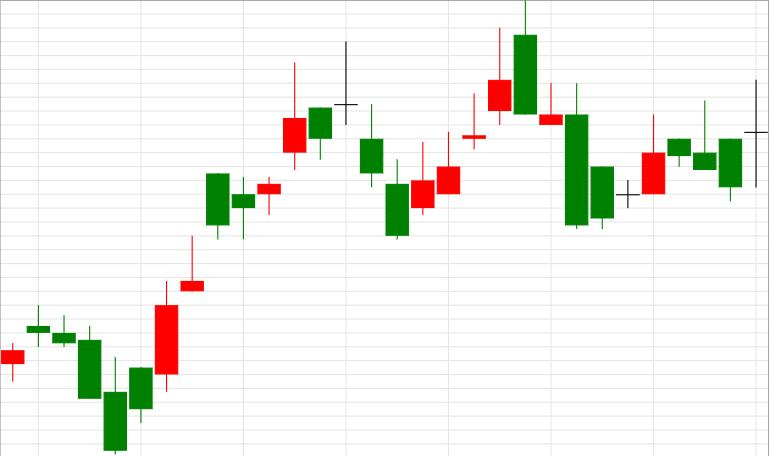shooting_star_fall: (155, 61, 306, 394), (386, 28, 511, 242)
